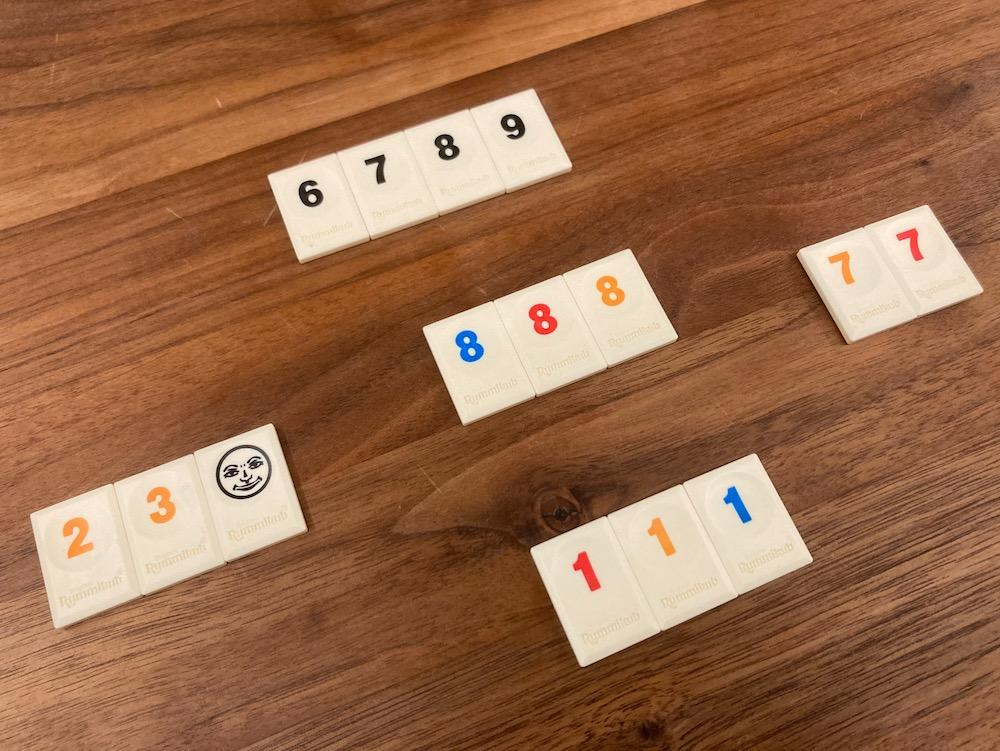black_6: (268, 154, 369, 262)
black_7: (339, 133, 439, 238)
black_8: (406, 109, 504, 215)
black_9: (471, 90, 572, 191)
blue_1: (686, 455, 812, 594)
blue_8: (424, 303, 535, 424)
joker: (195, 424, 307, 561)
orange_1: (609, 486, 736, 629)
orange_2: (32, 484, 141, 627)
orange_3: (115, 455, 225, 594)
orange_7: (797, 229, 916, 344)
orange_8: (562, 250, 678, 367)
red_1: (531, 518, 660, 666)
red_7: (867, 205, 982, 316)
red_8: (494, 275, 607, 395)
